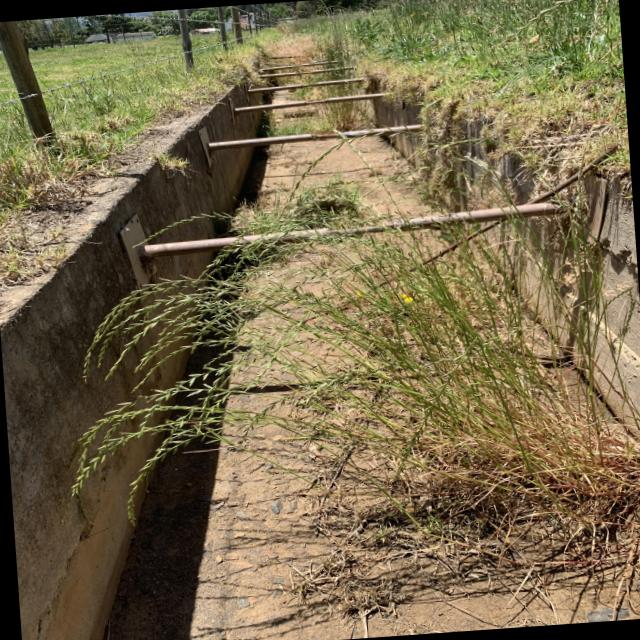Lolium: (41, 115, 640, 582), (72, 272, 216, 382), (118, 427, 228, 525), (132, 361, 248, 435), (64, 424, 174, 496), (129, 202, 286, 244), (282, 134, 359, 200), (73, 398, 139, 466)
